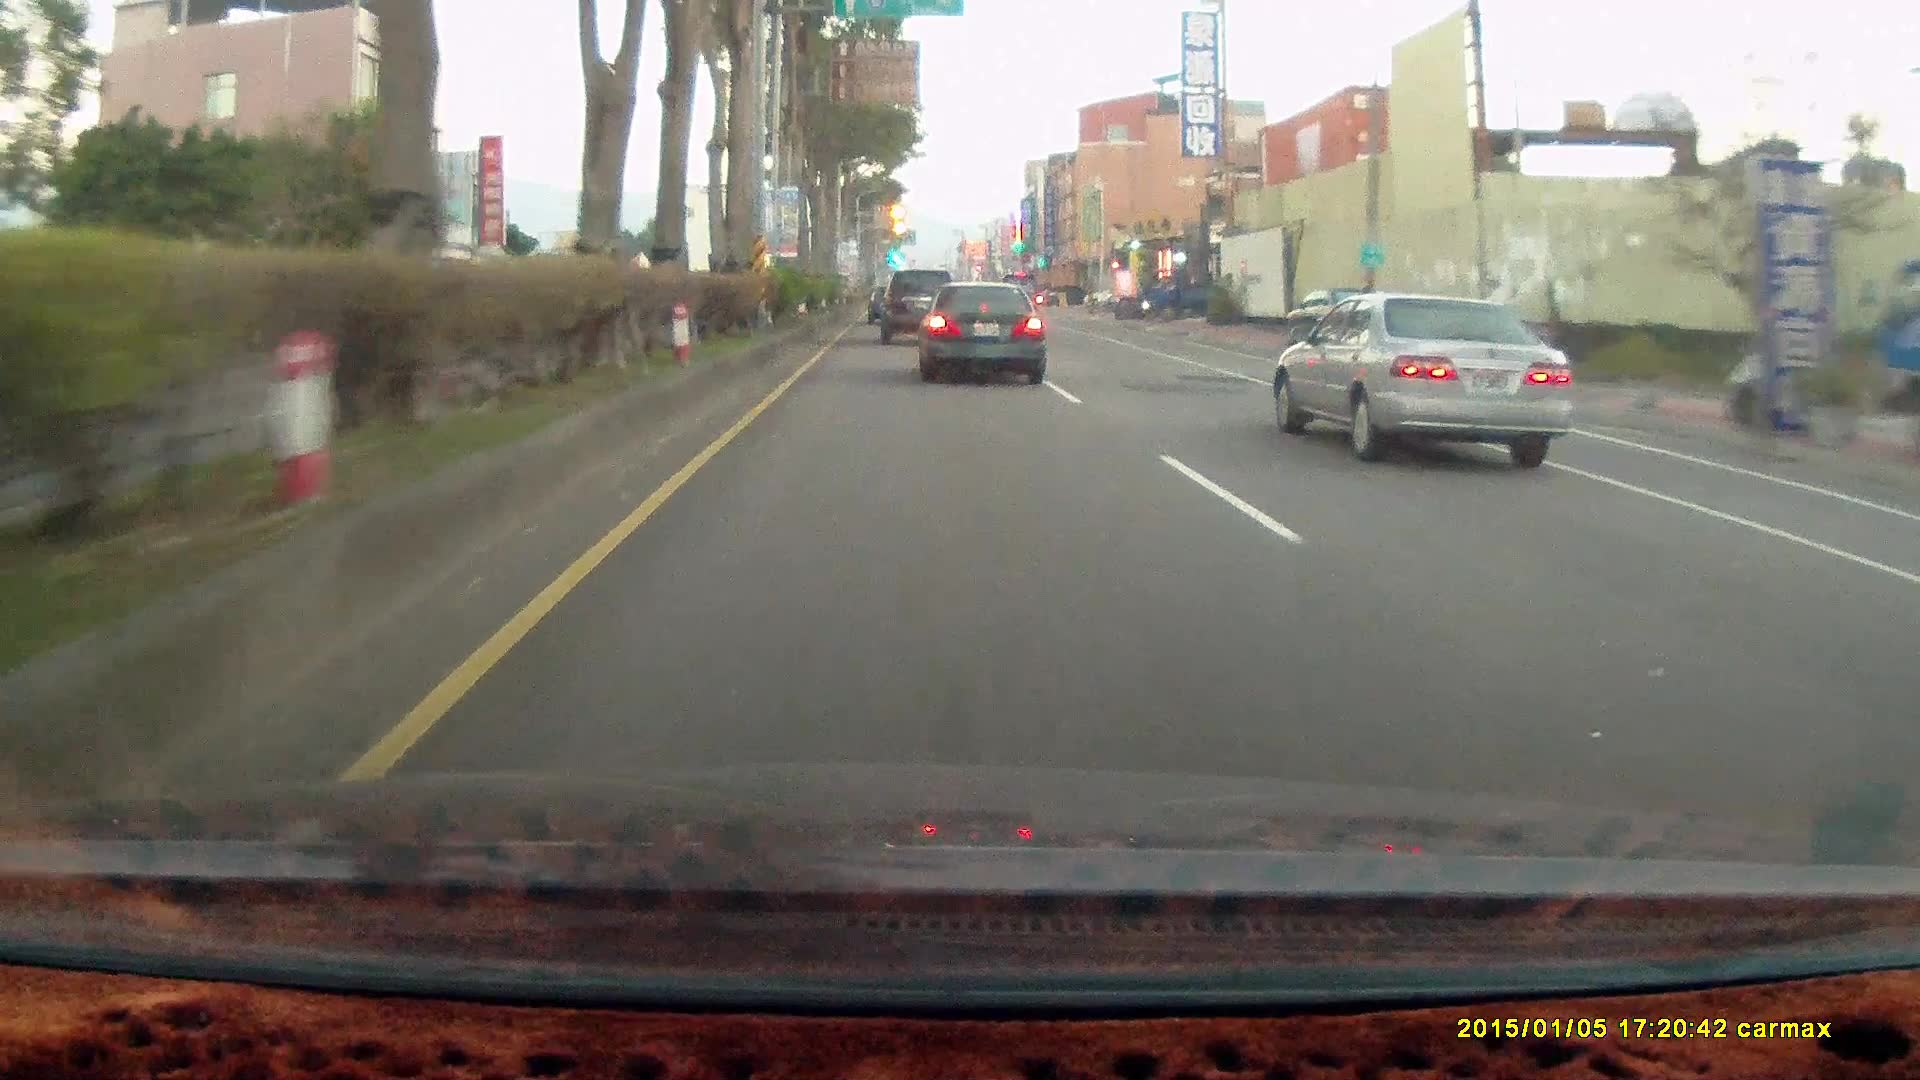vehicle: (1276, 291, 1586, 469), (1273, 291, 1575, 468), (913, 281, 1044, 385), (920, 285, 1051, 389), (1874, 262, 1920, 458), (880, 273, 960, 348), (880, 272, 959, 347), (1137, 266, 1221, 323), (1047, 286, 1088, 307)
